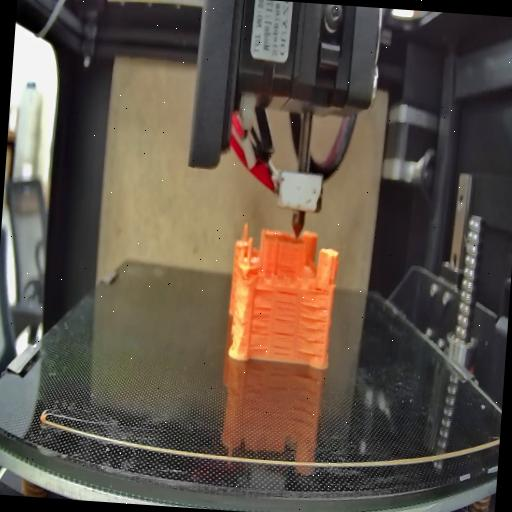cracks: (270, 290, 303, 356), (298, 300, 330, 358), (250, 304, 272, 350), (278, 263, 295, 278), (307, 283, 329, 293), (255, 286, 273, 294)
